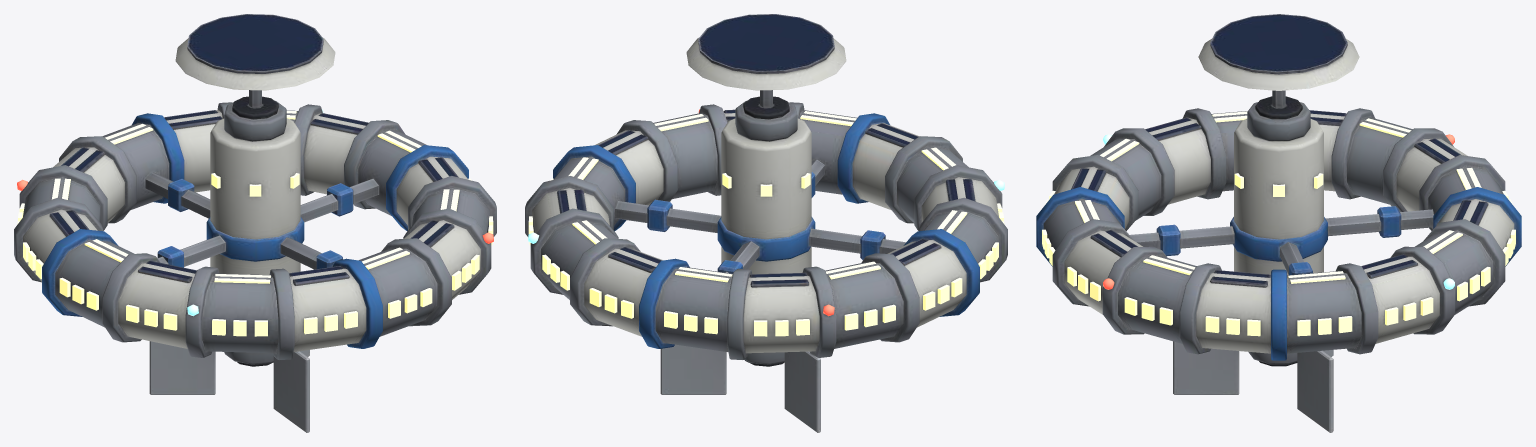
Rendered from habitat.glb.
3 renders of one model, left to right at view 1: azimuth 30°, elevation 25°; view 2: azimuth 150°, elevation 25°; view 3: azimuth 270°, elevation 25°, orthographic.
Visible parts, largest first — view 1: habitat, habitat_glow; view 2: habitat, habitat_glow; view 3: habitat, habitat_glow.
Boxes of the visible parts, <box> form: habitat: <box>14,14,496,432</box>; habitat_glow: <box>17,109,493,336</box>; habitat: <box>525,14,1007,432</box>; habitat_glow: <box>528,109,1004,336</box>; habitat: <box>1036,14,1521,432</box>; habitat_glow: <box>1042,111,1515,336</box>.
Size of the model in its own units: 3.67 by 2.93 by 3.67.
4 materials, 1 textured.
